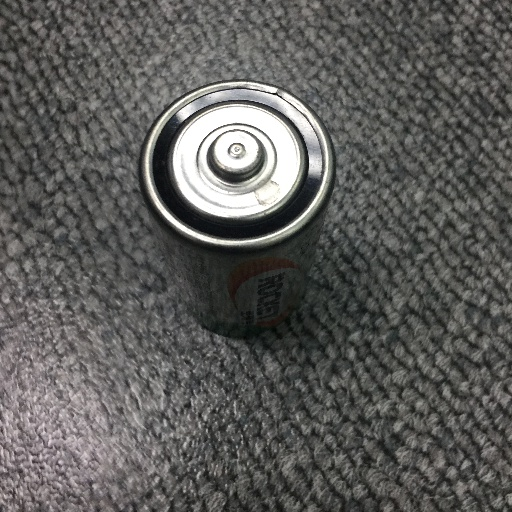Battery_0: (129, 65, 351, 354)
